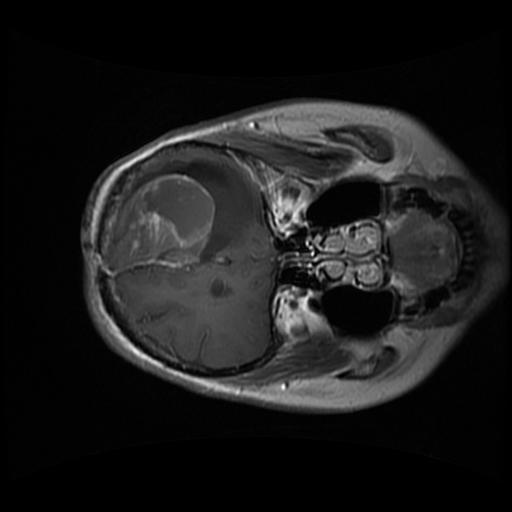glioma: (108, 157, 252, 267)
